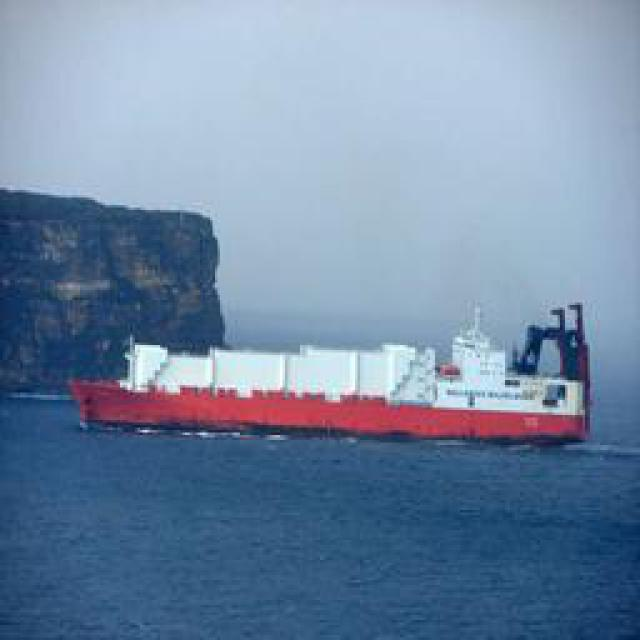Ship: (79, 309, 589, 444)
